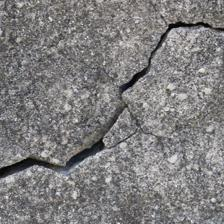Crack: (0, 25, 110, 118), (23, 25, 129, 71), (82, 13, 128, 91)
